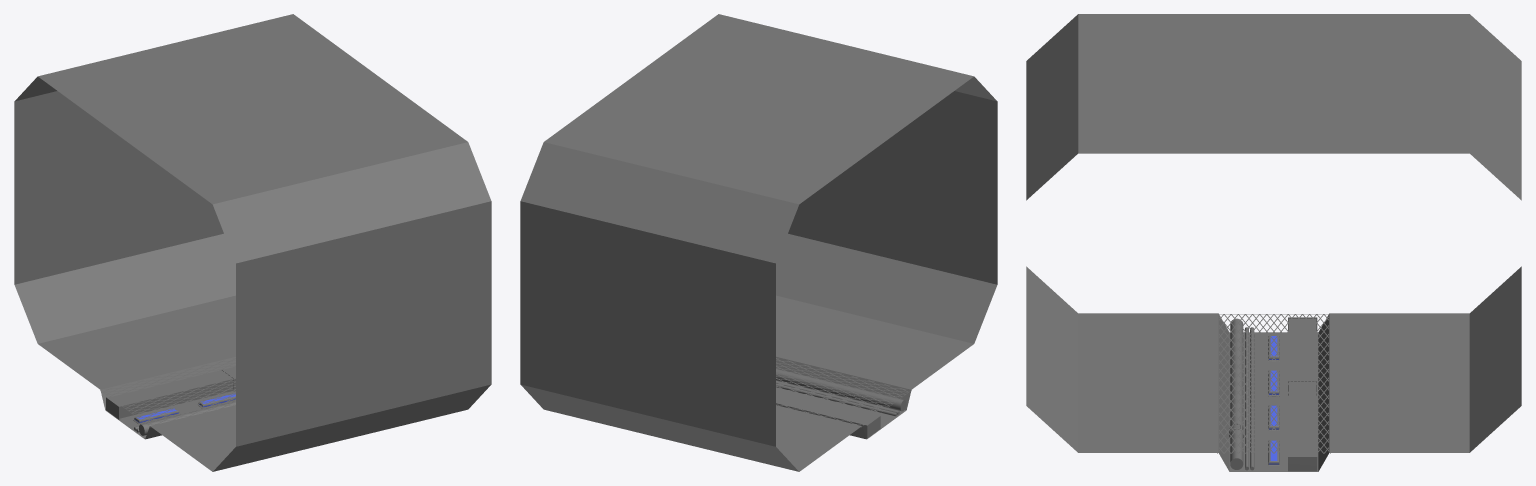
The model's file is Normal_Hallway.fbx.
3 views of the same model, side by side, from view 1: azimuth 30°, elevation 25°; view 2: azimuth 150°, elevation 25°; view 3: azimuth 270°, elevation 25° (orthographic). The views are drawn at different scales.
Visible parts, largest first — view 1: normal Hallway; view 2: normal Hallway; view 3: normal Hallway.
Part boxes in pixels (x1,y1,x2,y2): normal Hallway: [14, 14, 491, 471]; normal Hallway: [520, 14, 997, 471]; normal Hallway: [1026, 14, 1521, 471].
Size of the model in its own units: 400 by 427 by 600.
